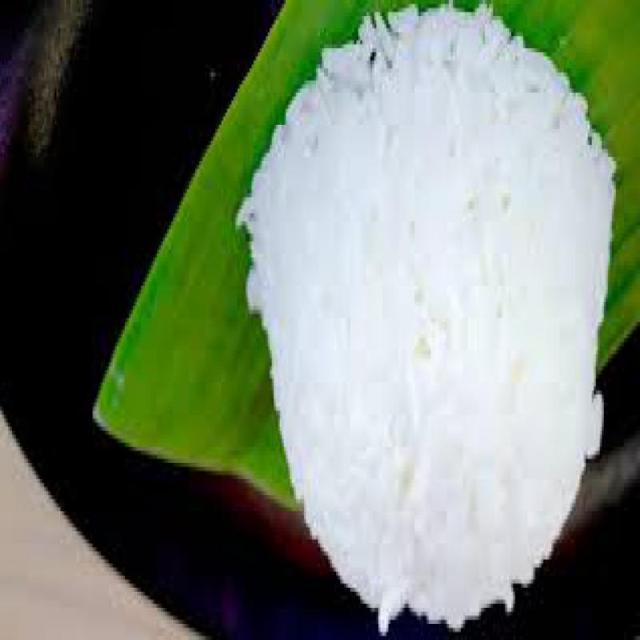nasi_putih: (247, 5, 616, 626)
